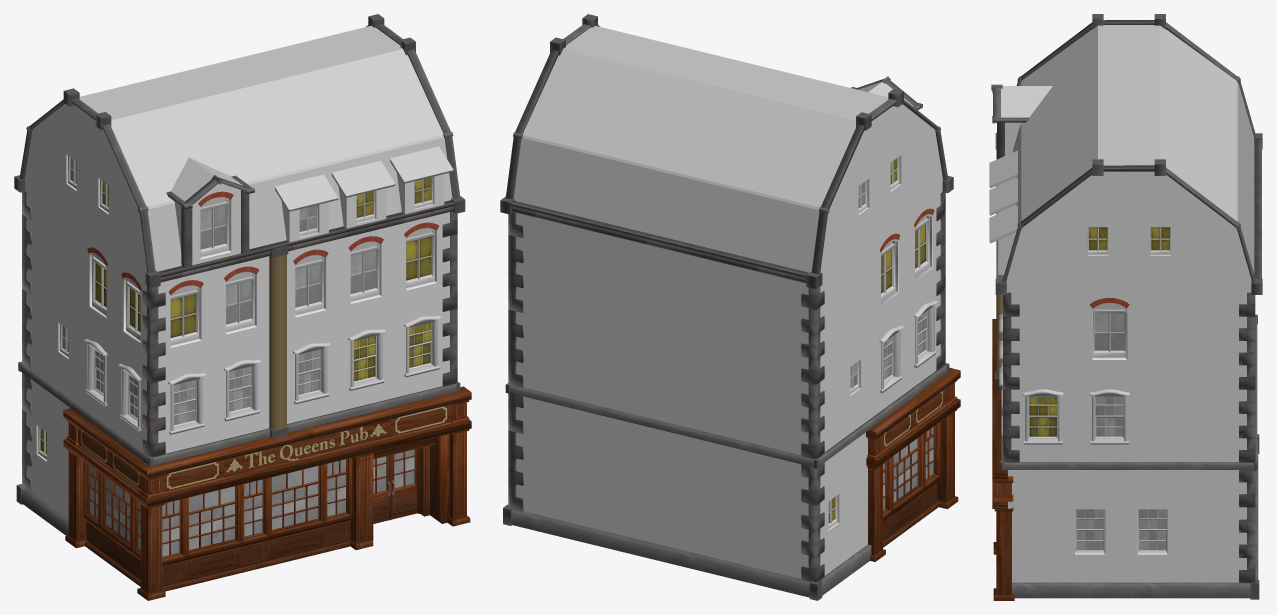
The model's file is Building_14_Pub.fbx.
3 renders of one model, left to right at view 1: azimuth 30°, elevation 25°; view 2: azimuth 150°, elevation 25°; view 3: azimuth 270°, elevation 25°, orthographic. The views are drawn at different scales.
Parts seen in each view (by area): view 1: Roof_01, Wall_01.012, Base_Store, Wall_02.011, Trim_01, Trim_03.007, Trim_02, Roof_02.009; view 2: Wall_04.009, Roof_02.009, Wall_02.011, Base_Store, Roof_01, Trim_03.007, Trim_04.009, Trim_01; view 3: Wall_03, Roof_01, Roof_02.009, Trim_04.009, Base_Store, Trim_02, Wall_04.009, Wall_01.012.
Boxes of the visible parts, x1,y1,x2,y2 form: Roof_01: [71, 24, 465, 288]; Wall_01.012: [148, 212, 460, 466]; Base_Store: [63, 386, 471, 600]; Wall_02.011: [16, 104, 149, 535]; Trim_01: [142, 286, 165, 457]; Trim_03.007: [22, 191, 31, 492]; Trim_02: [442, 211, 457, 386]; Roof_02.009: [14, 14, 384, 192]; Wall_04.009: [505, 213, 818, 597]; Roof_02.009: [500, 37, 871, 289]; Wall_02.011: [809, 104, 946, 600]; Base_Store: [866, 367, 960, 561]; Roof_01: [563, 14, 953, 193]; Trim_03.007: [801, 287, 824, 582]; Trim_04.009: [508, 212, 523, 511]; Trim_01: [936, 192, 945, 370]; Wall_03: [1004, 171, 1259, 599]; Roof_01: [989, 14, 1160, 294]; Roof_02.009: [1154, 14, 1262, 294]; Trim_04.009: [1239, 292, 1255, 582]; Base_Store: [992, 319, 1014, 600]; Trim_02: [1003, 292, 1019, 462]; Wall_04.009: [1254, 314, 1258, 579]; Wall_01.012: [995, 292, 1007, 470].
Size of what is drawn, in the model's own units: 11.71 by 15.37 by 8.74.
